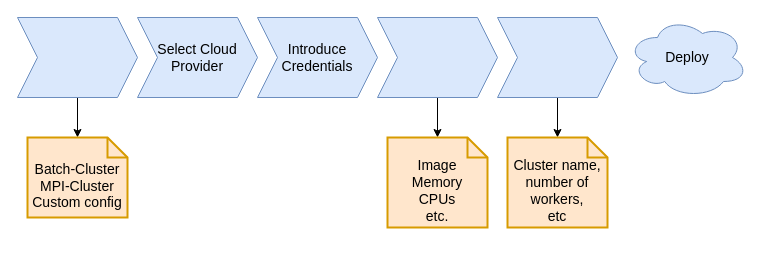
The diagram is 765 pixels wide and 259 high, and some of its shapes have lost their labels. The centre of each missing label's shape, as x and y in pixels:
"Select Infrastructure Topology" goes at (x=77, y=57).
"Set infrastructure features" goes at (x=557, y=57).
"Specify nodes characteristics" goes at (x=437, y=57).
